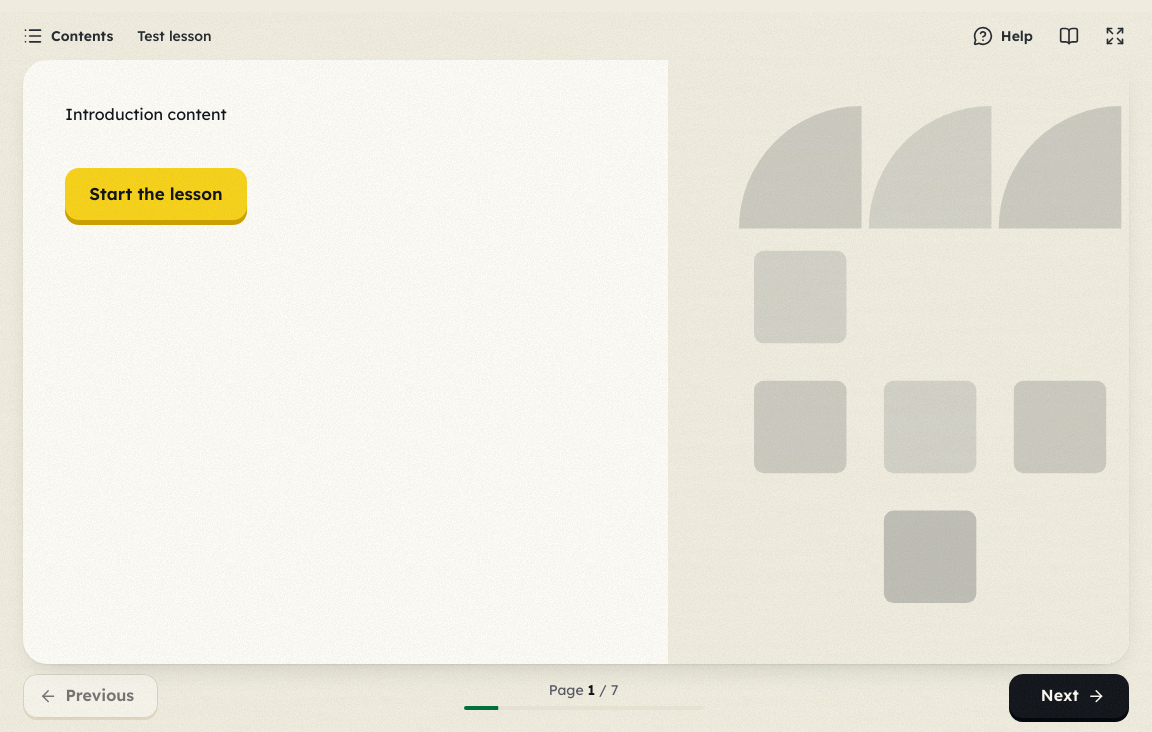
Test case: keeps three or more assumptions on a ruled sheet of their own
Step 1. Click the button "Next" → [1069, 696], box [1009,674,1129,718]
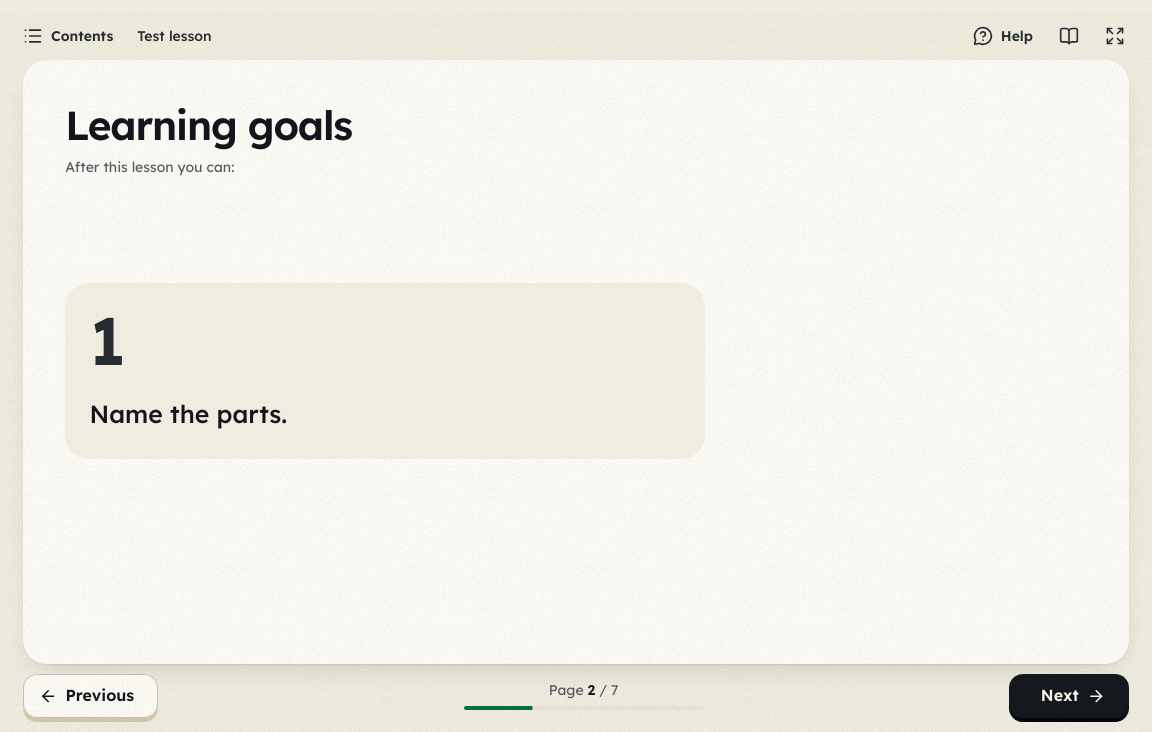
Step 2. Click the button "Next" → [1069, 696], box [1009,674,1129,718]
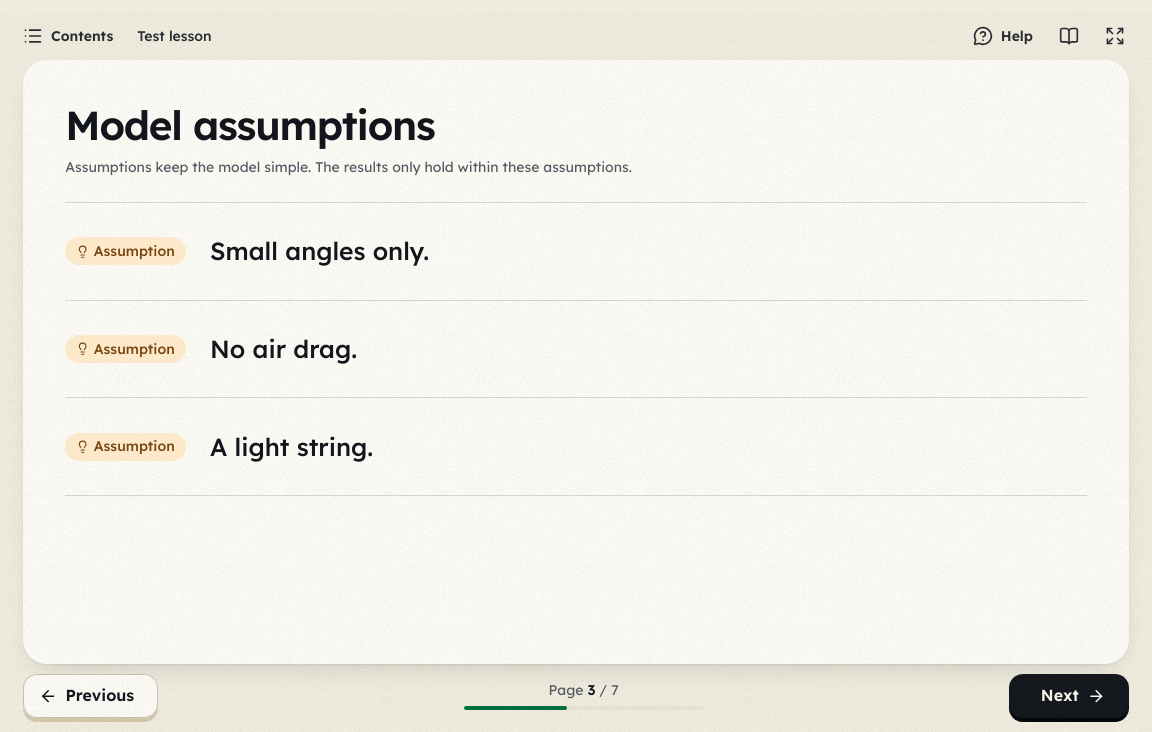
Expected: the heading reads "Model assumptions", [65,100,435,150]
Expected: the number of list items with class "deck-assumption" is 3, [65,203,1087,301]; [65,301,1087,398]; [65,398,1087,496]
